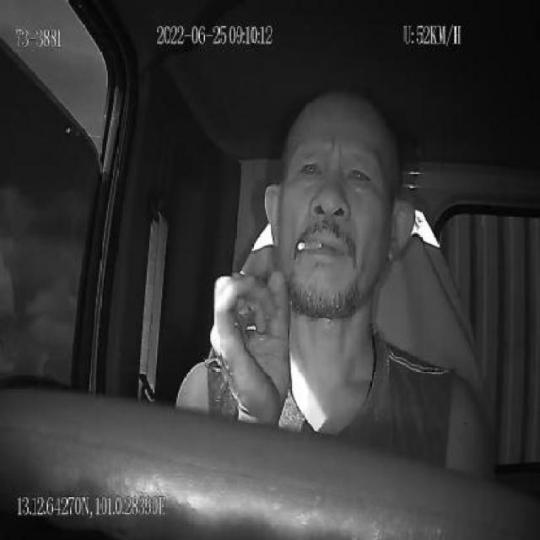smoking: (296, 239, 322, 255)
